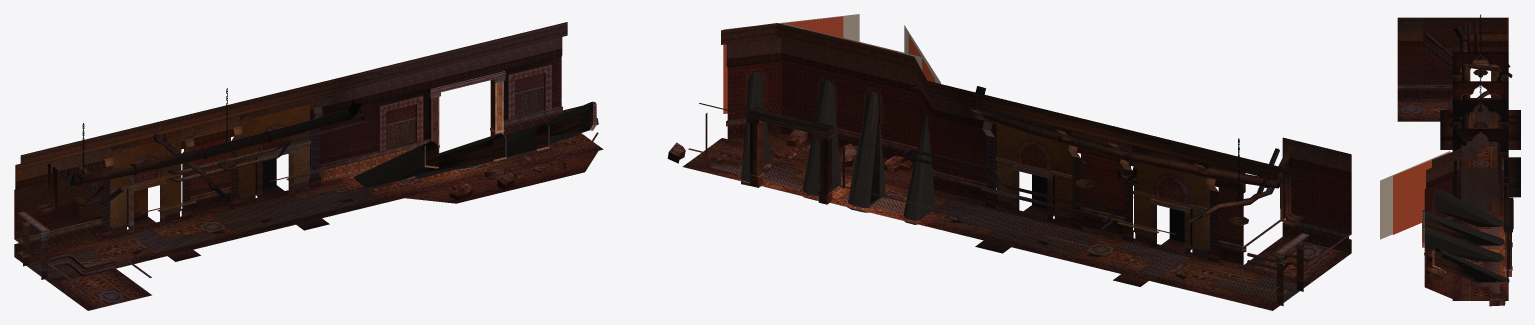
The model's file is 04Hall.gltf.
3 views of the same model, side by side, from view 1: azimuth 30°, elevation 25°; view 2: azimuth 150°, elevation 25°; view 3: azimuth 270°, elevation 25° (orthographic). The views are drawn at different scales.
Parts seen in each view (by area): view 1: stg030_o06_Mesh_4, stg030_o06_Mesh_5, stg030_o06_Mesh_14, stg030_o06_Mesh_0, stg030_o06_Mesh_1, stg030_o06_Mesh_26, stg030_o06_Mesh_21, stg030_o06_Mesh_29, stg030_g06_Mesh_0, stg030_o06_Mesh_28, stg030_o06_Mesh_25, stg030_o06_Mesh_24 (+10 smaller); view 2: stg030_o06_Mesh_26, stg030_o06_Mesh_4, stg030_o06_Mesh_5, stg030_g06_Mesh_0, stg030_o06_Mesh_14, stg030_o06_Mesh_1, stg030_o06_Mesh_0, stg030_o06_Mesh_29, stg030_o06_Mesh_21, stg030_o06_Mesh_25, stg030_o06_Mesh_24, stg030_o06_Mesh_19 (+13 smaller); view 3: stg030_g06_Mesh_0, stg030_o06_Mesh_0, stg030_o06_Mesh_30, stg030_o06_Mesh_26, stg030_o06_Mesh_5, stg030_o06_Mesh_14, stg030_o06_Mesh_21, stg030_k06_Mesh_1, stg030_o06_Mesh_1, stg030_o06_Mesh_4, stg030_o06_Mesh_2, stg030_o06_Mesh_29 (+12 smaller).
Part boxes in pixels (bbox=[...]): stg030_o06_Mesh_4: bbox=[15, 22, 567, 181]; stg030_o06_Mesh_5: bbox=[15, 133, 603, 310]; stg030_o06_Mesh_14: bbox=[14, 48, 562, 270]; stg030_o06_Mesh_0: bbox=[18, 148, 547, 280]; stg030_o06_Mesh_1: bbox=[36, 98, 366, 276]; stg030_o06_Mesh_26: bbox=[14, 56, 561, 239]; stg030_o06_Mesh_21: bbox=[20, 142, 598, 308]; stg030_o06_Mesh_29: bbox=[109, 104, 309, 226]; stg030_g06_Mesh_0: bbox=[354, 102, 591, 189]; stg030_o06_Mesh_28: bbox=[111, 88, 544, 235]; stg030_o06_Mesh_25: bbox=[14, 106, 581, 256]; stg030_o06_Mesh_24: bbox=[15, 106, 598, 293]; stg030_o06_Mesh_26: bbox=[727, 61, 1351, 245]; stg030_o06_Mesh_4: bbox=[721, 23, 1351, 187]; stg030_o06_Mesh_5: bbox=[682, 133, 1350, 310]; stg030_g06_Mesh_0: bbox=[741, 72, 935, 224]; stg030_o06_Mesh_14: bbox=[699, 52, 1351, 302]; stg030_o06_Mesh_1: bbox=[901, 86, 1309, 269]; stg030_o06_Mesh_0: bbox=[711, 163, 1306, 301]; stg030_o06_Mesh_29: bbox=[996, 123, 1209, 249]; stg030_o06_Mesh_21: bbox=[688, 135, 1340, 306]; stg030_o06_Mesh_25: bbox=[727, 122, 1351, 264]; stg030_o06_Mesh_24: bbox=[688, 118, 1350, 291]; stg030_o06_Mesh_19: bbox=[746, 107, 1309, 297]; stg030_g06_Mesh_0: bbox=[1424, 189, 1509, 282]; stg030_o06_Mesh_0: bbox=[1426, 18, 1504, 293]; stg030_o06_Mesh_30: bbox=[1452, 52, 1508, 159]; stg030_o06_Mesh_26: bbox=[1397, 47, 1508, 217]; stg030_o06_Mesh_5: bbox=[1397, 98, 1508, 300]; stg030_o06_Mesh_14: bbox=[1397, 18, 1510, 294]; stg030_o06_Mesh_21: bbox=[1397, 98, 1520, 300]; stg030_k06_Mesh_1: bbox=[1393, 154, 1445, 234]; stg030_o06_Mesh_1: bbox=[1423, 23, 1518, 185]; stg030_o06_Mesh_4: bbox=[1397, 17, 1508, 182]; stg030_o06_Mesh_2: bbox=[1380, 151, 1450, 239]; stg030_o06_Mesh_29: bbox=[1440, 110, 1520, 180].
Size of the model in its own units: 90.73 by 20.47 by 25.14.
31 materials, 30 textured.
